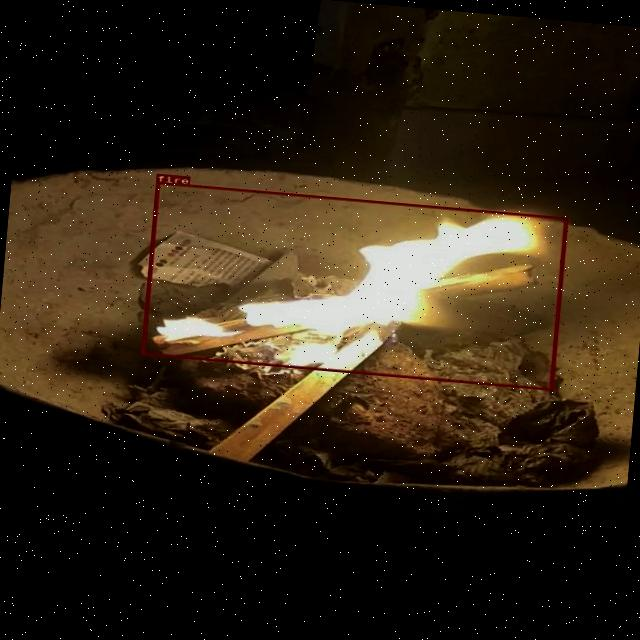fire: (139, 181, 567, 390)
